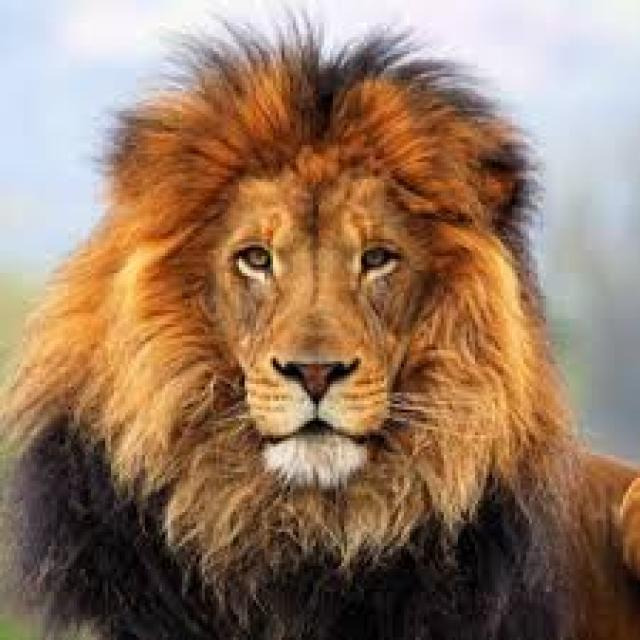Lion: (21, 66, 637, 634)
